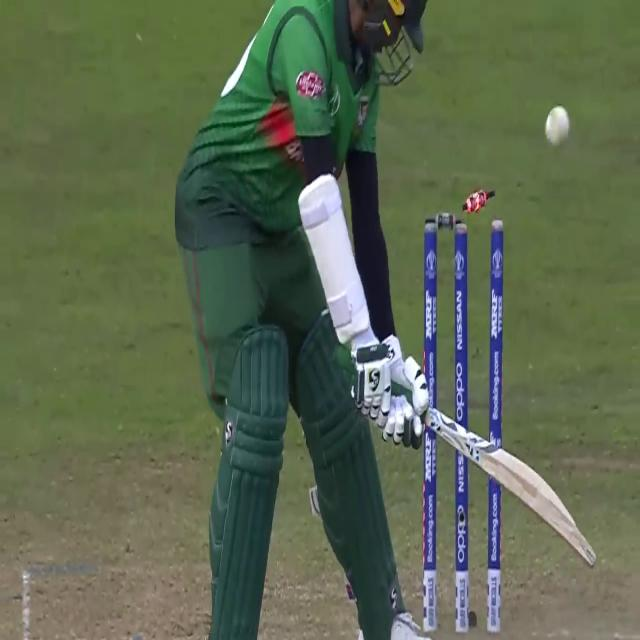ball: (537, 100, 575, 156)
